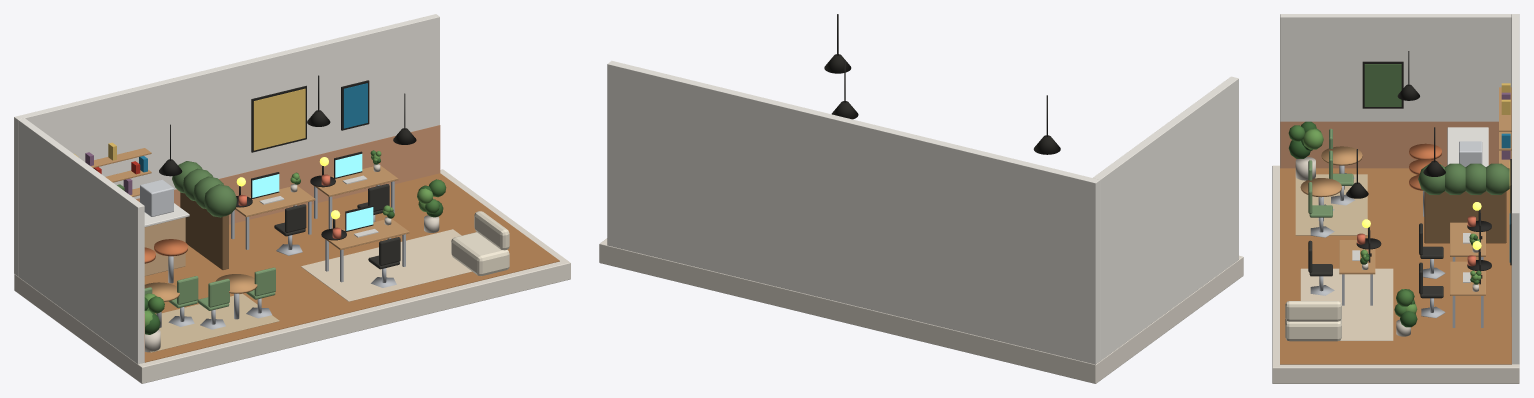
3 views of the same model, side by side, from view 1: azimuth 30°, elevation 25°; view 2: azimuth 150°, elevation 25°; view 3: azimuth 270°, elevation 25° (orthographic). The views are drawn at different scales.
Parts seen in each view (by area): view 1: LM_PB, Cube.060, Cube.038, Cube.049; view 2: LM_PB; view 3: LM_PB.
Boxes of the visible parts, box(x1,y1,x2,y2) form: LM_PB: box(14, 14, 570, 383); Cube.060: box(346, 207, 373, 230); Cube.038: box(252, 174, 279, 197); Cube.049: box(335, 154, 362, 177); LM_PB: box(599, 14, 1243, 383); LM_PB: box(1272, 14, 1519, 383).
Bounding box in the file's own units: 9.3 × 3.8 × 4.8.
